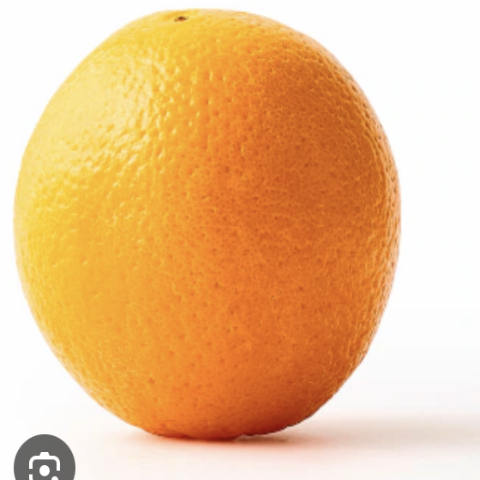orange: (0, 5, 441, 479)
